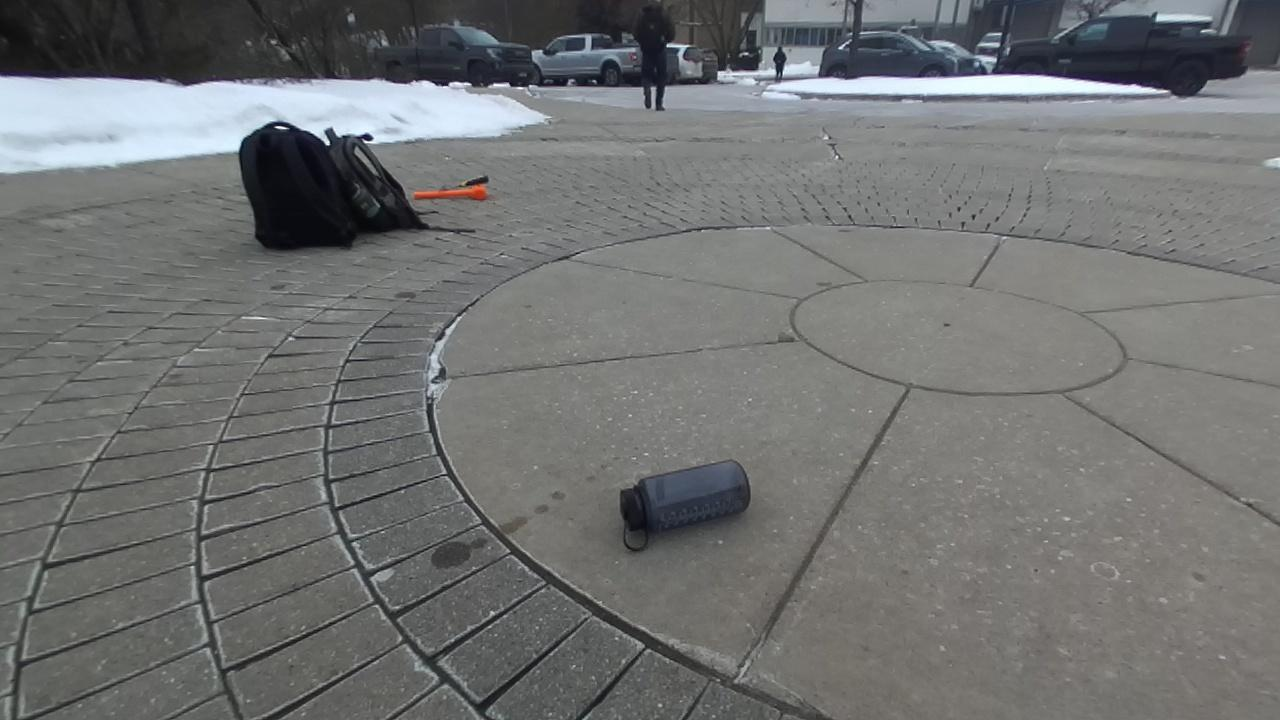bottle: (620, 460, 750, 550)
mallet: (414, 185, 487, 200)
